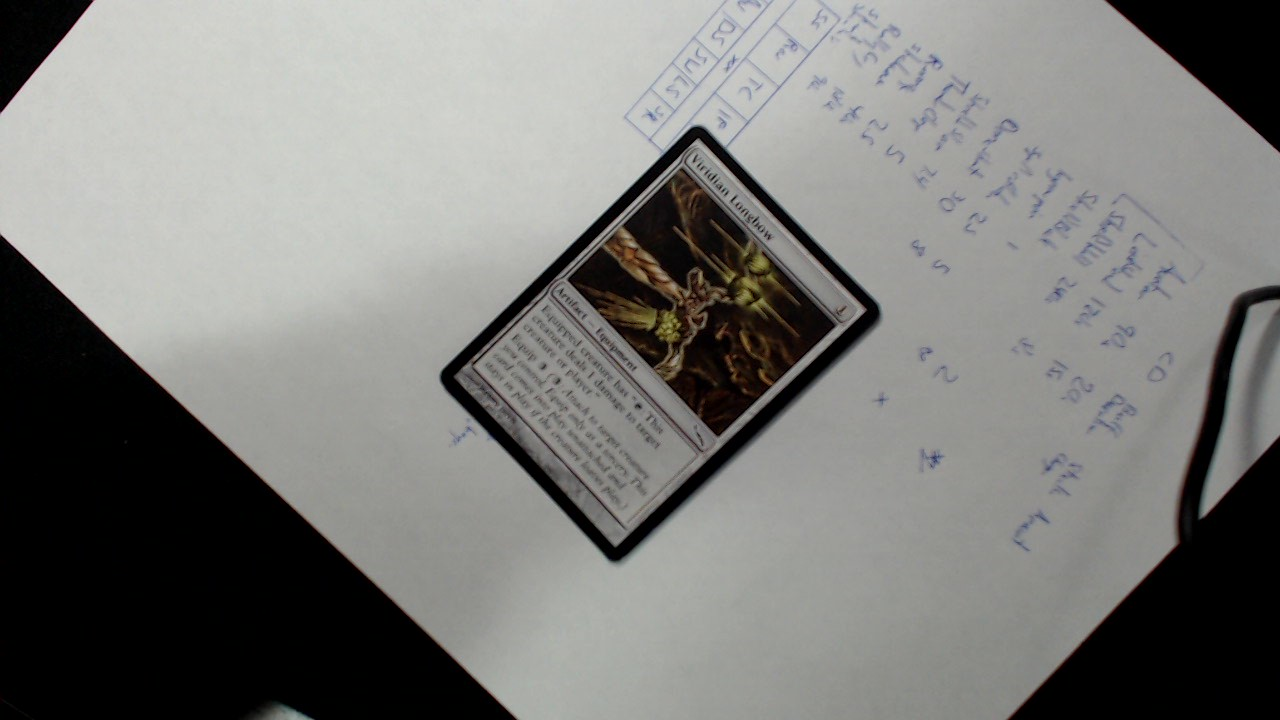MTG Card: (433, 117, 887, 571)
